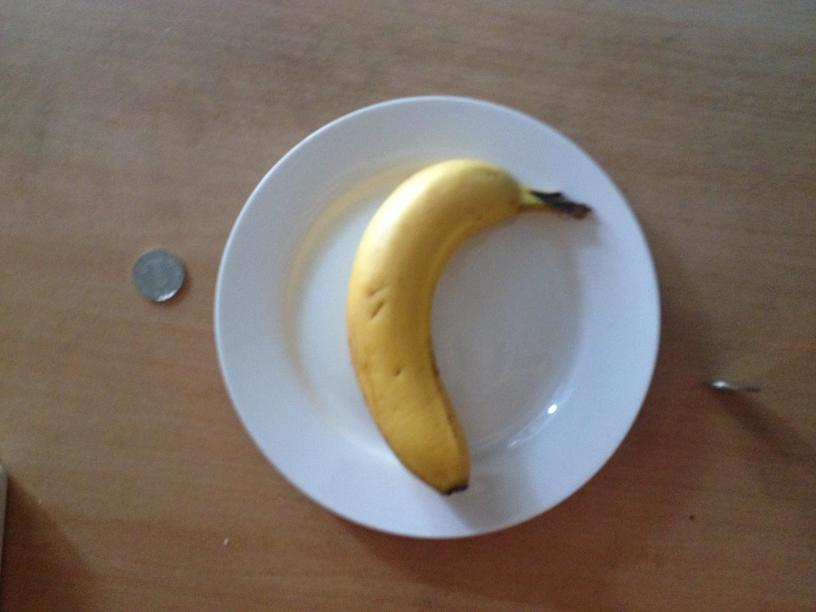banana: (346, 160, 537, 496)
coin: (129, 249, 187, 305)
